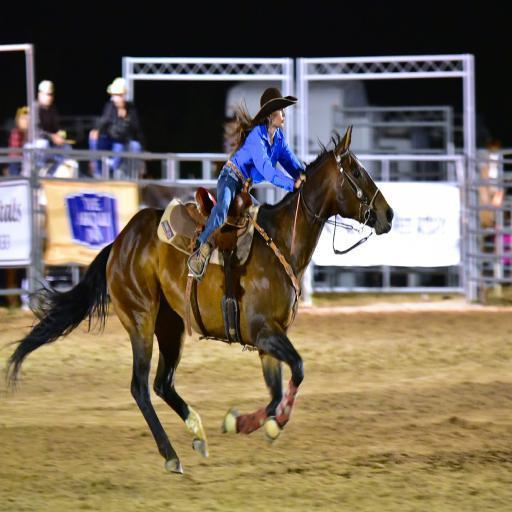horse: (1, 123, 395, 474)
